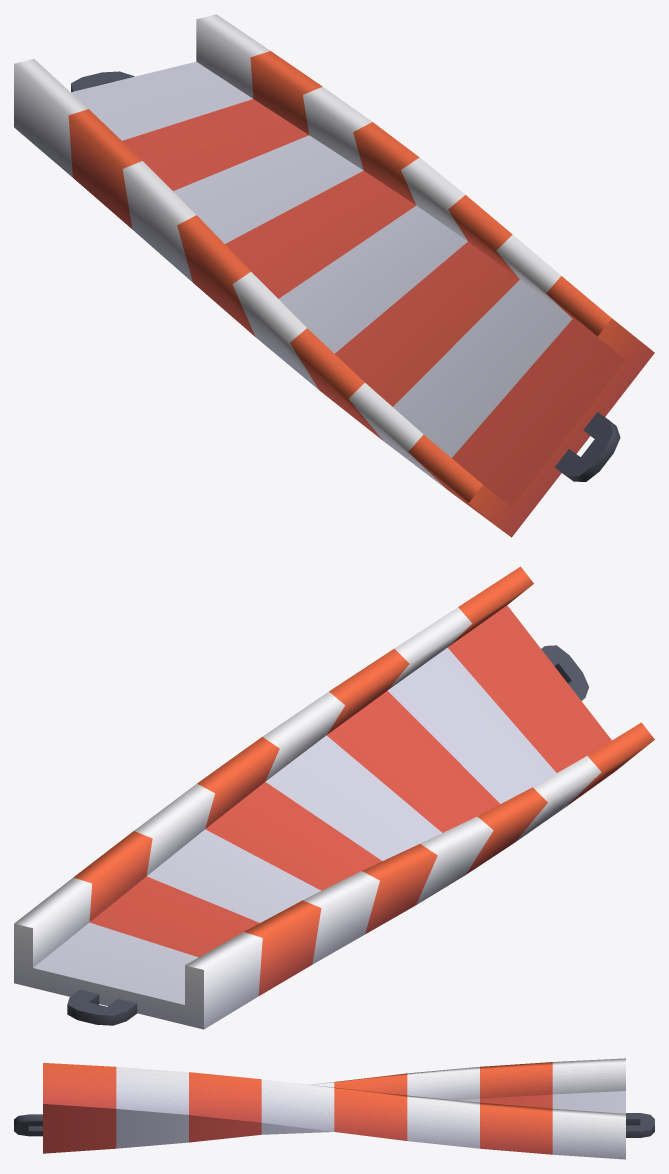
The model's file is track-striped-narrow-straight-skew-right.glb.
The picture shows the model from 3 angles, top to bottom: view 1: azimuth 30°, elevation 25°; view 2: azimuth 150°, elevation 25°; view 3: azimuth 270°, elevation 25°; orthographic projection. The views are drawn at different scales.
Visible parts, largest first — view 1: track-striped-narrow-straight-skew-right; view 2: track-striped-narrow-straight-skew-right; view 3: track-striped-narrow-straight-skew-right.
Boxes of the visible parts, x1=… form: track-striped-narrow-straight-skew-right: x1=14, y1=14, x2=654, y2=537; track-striped-narrow-straight-skew-right: x1=14, y1=566, x2=654, y2=1029; track-striped-narrow-straight-skew-right: x1=14, y1=1058, x2=654, y2=1159.
Size of the model in its own units: 3.25 by 2.76 by 13.2.
1 material, 1 textured.
